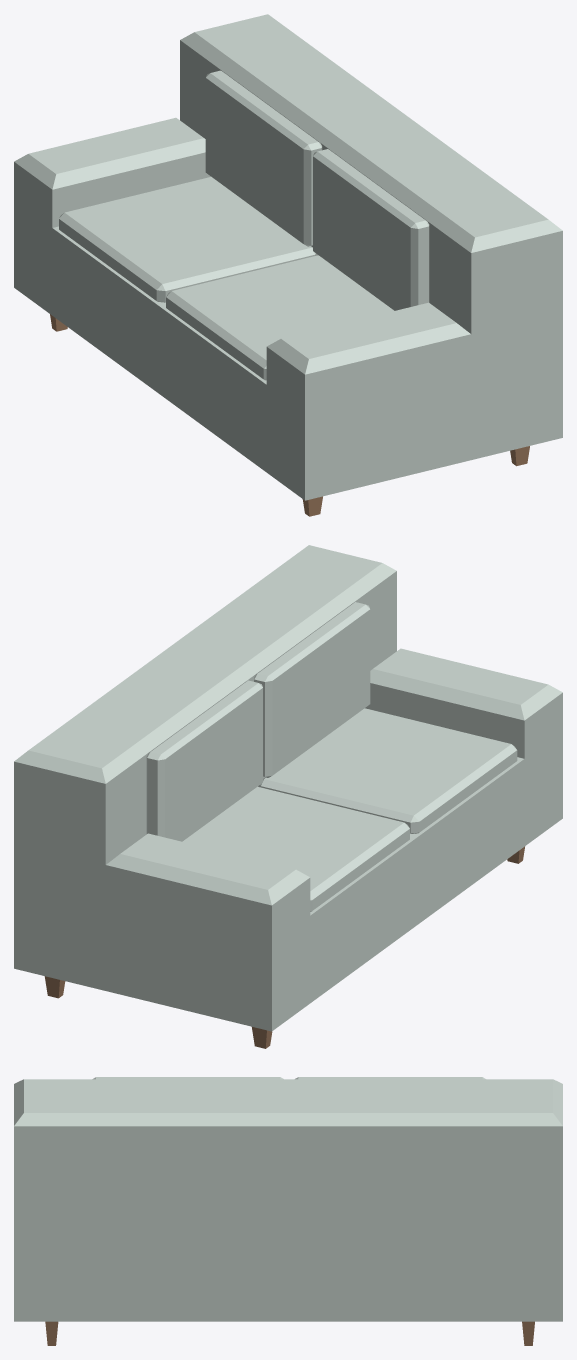
File: Sala_Sofa_11.fbx
3 views of the same model, one above another, from view 1: azimuth 30°, elevation 25°; view 2: azimuth 150°, elevation 25°; view 3: azimuth 270°, elevation 25° (orthographic). The views are drawn at different scales.
Visible parts, largest first — view 1: sofa; view 2: sofa; view 3: sofa.
Part boxes in pixels (x1,y1,x2,y2): sofa: (14, 14, 562, 516); sofa: (14, 545, 562, 1048); sofa: (14, 1077, 562, 1345).
Bounding box in the file's own units: 54.52 × 50.74 × 107.
Materials: 2 (2 with a texture image).
